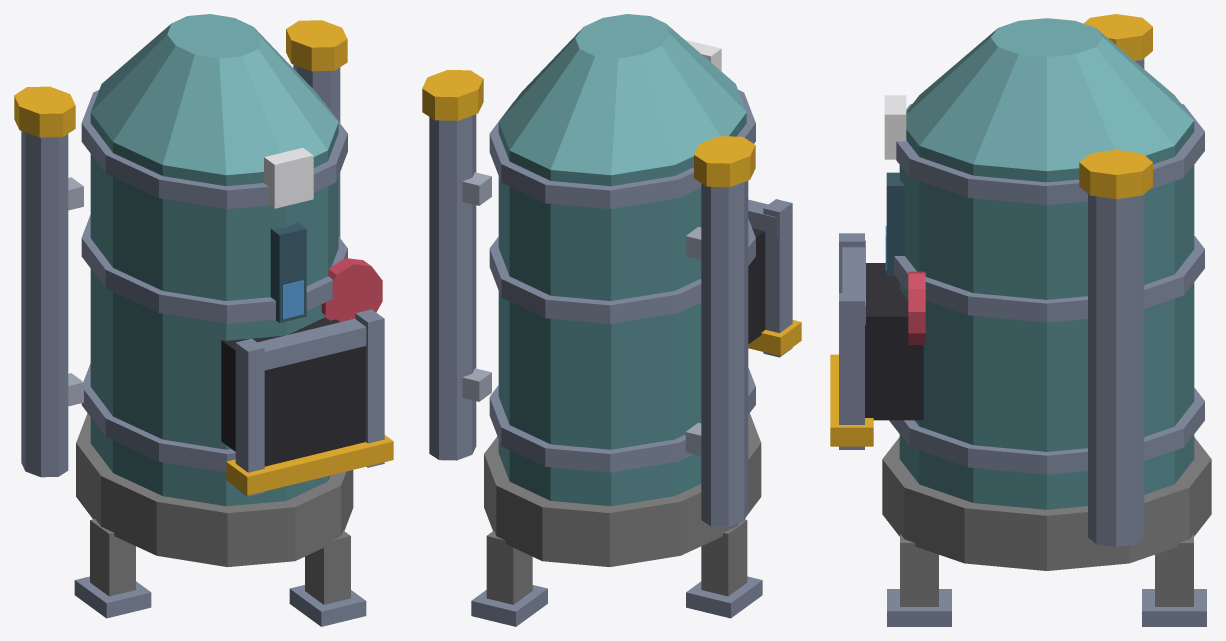
The model's file is condenser.glb.
3 views of the same model, side by side, from view 1: azimuth 30°, elevation 25°; view 2: azimuth 150°, elevation 25°; view 3: azimuth 270°, elevation 25° (orthographic). The views are drawn at different scales.
Visible parts, largest first — view 1: condenser; view 2: condenser; view 3: condenser.
Part boxes in pixels (left/top/right/bottom): condenser: left=14, top=14, right=393, bottom=626; condenser: left=422, top=14, right=801, bottom=626; condenser: left=830, top=14, right=1211, bottom=626.
Bounding box in the file's own units: 1 × 1.6 × 1.
